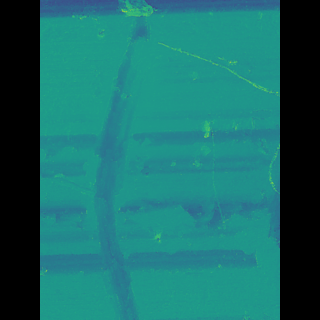Loch: (101, 7, 157, 319)
